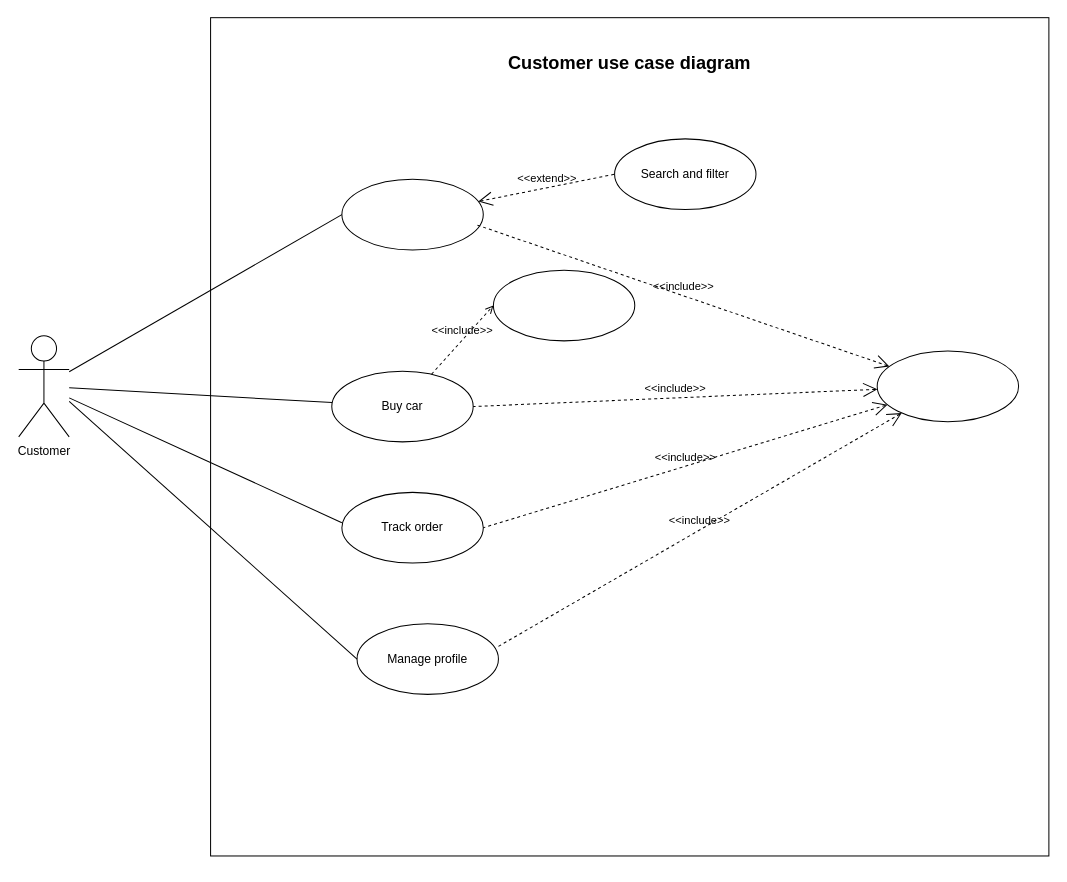
The diagram is 1067 pixels wide and 882 high, and some of its shapes have lost their labels. Here are the shapes that lost their labels. From the top down, the box of each, then its label:
(341, 178, 483, 250): Browse cars
(492, 269, 635, 341): Make payment
(876, 350, 1019, 422): Authentication
